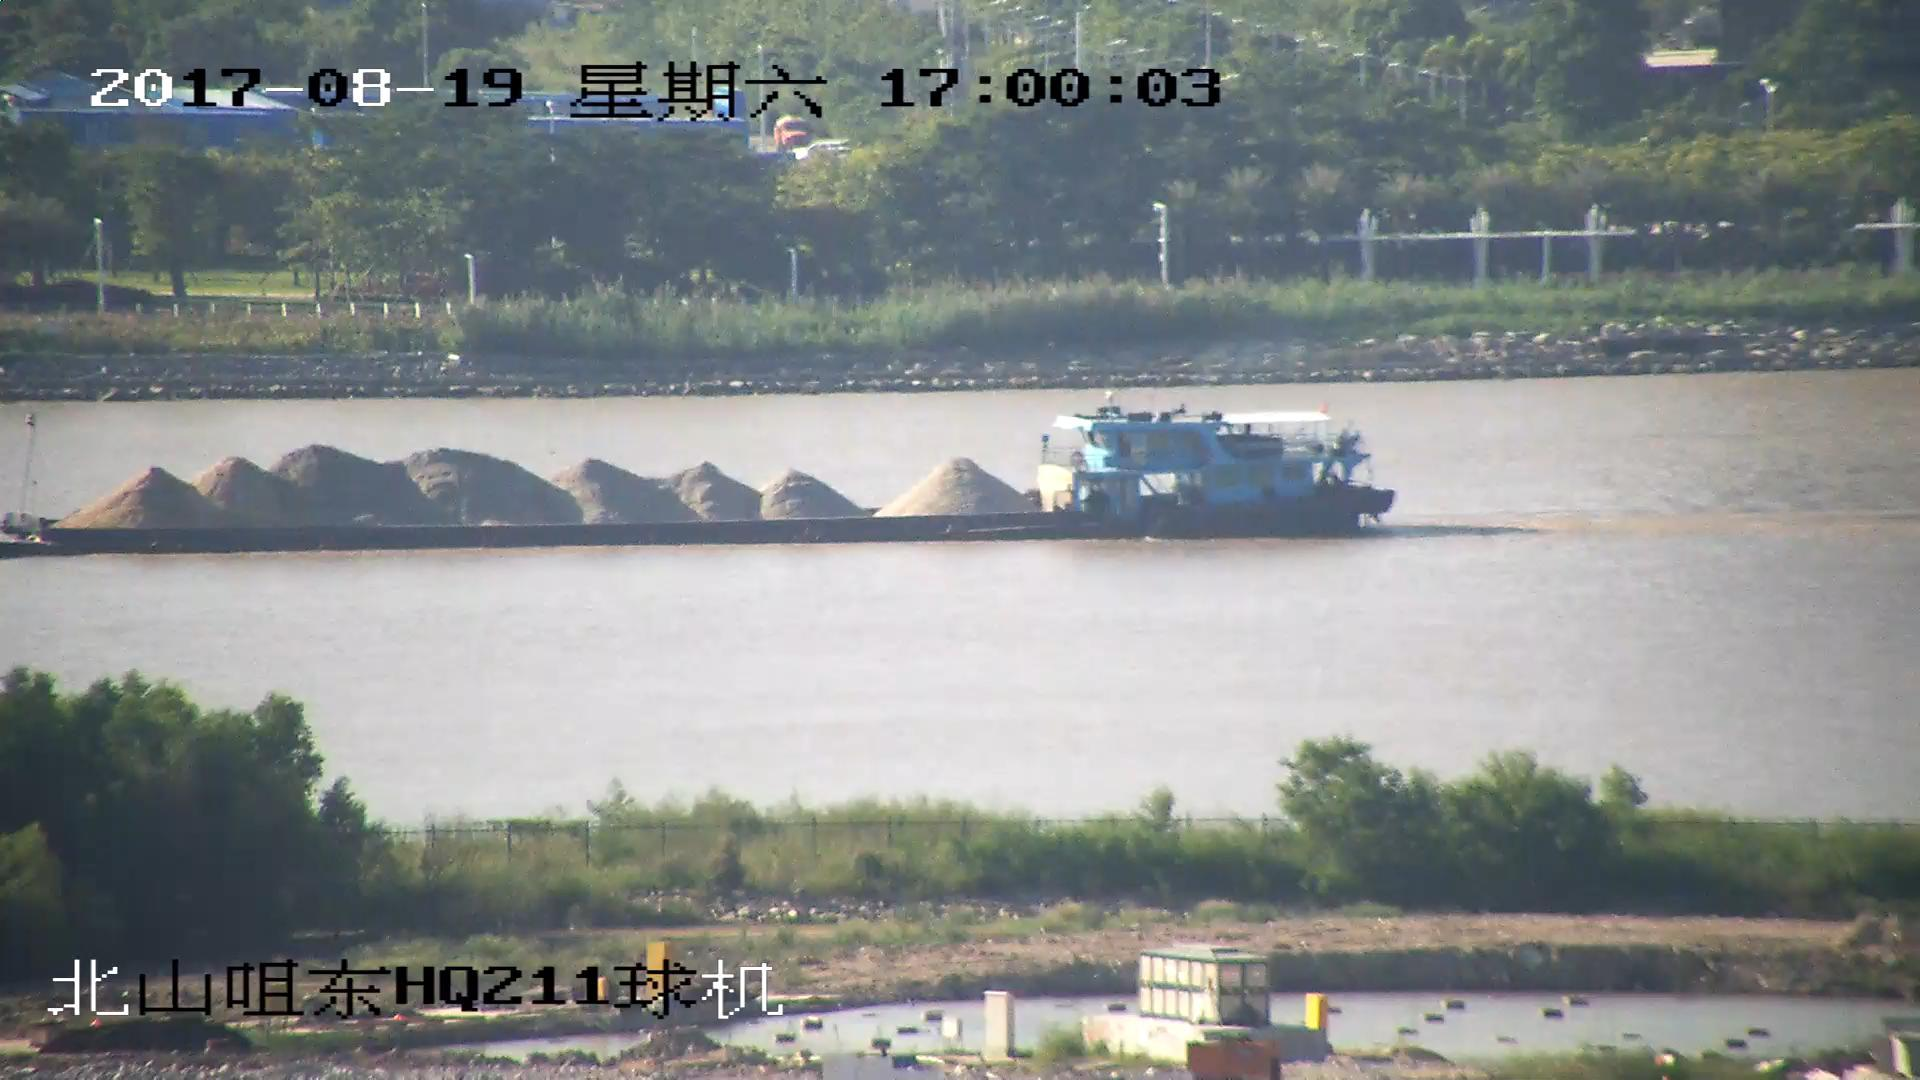Ship: (3, 393, 1396, 556)
